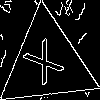X: (22, 37, 72, 95)
